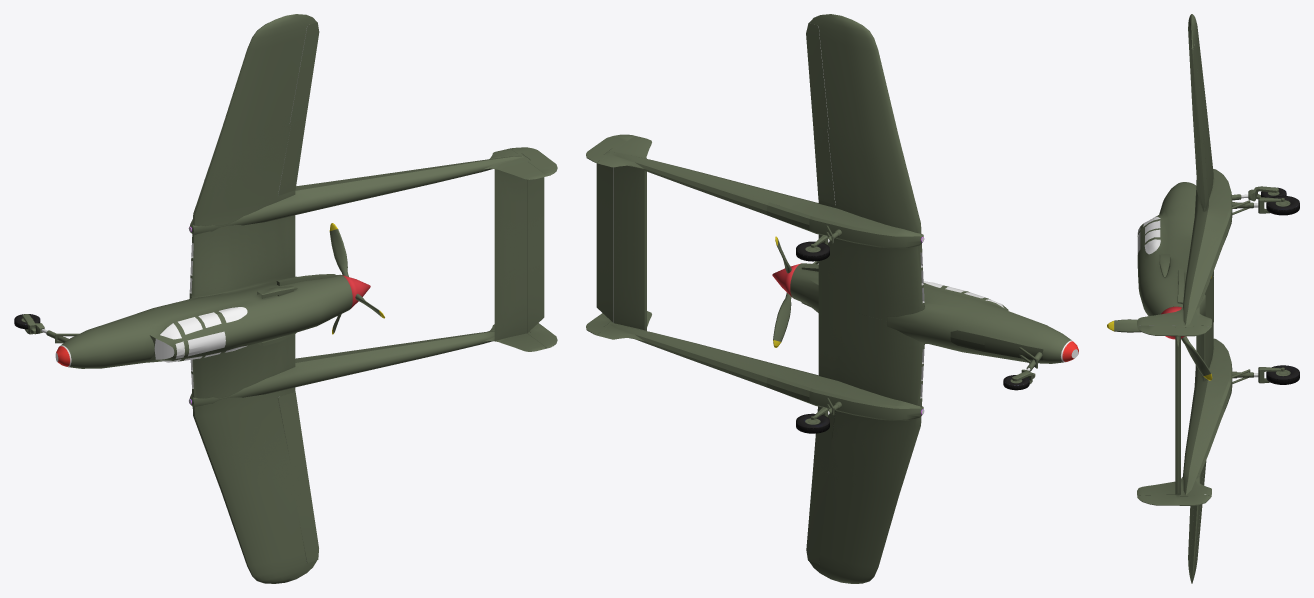
The picture shows the model from 3 angles, left to right: view 1: azimuth 30°, elevation 25°; view 2: azimuth 150°, elevation 25°; view 3: azimuth 270°, elevation 25°; orthographic projection.
Visible parts, largest first — view 1: Wing, Mainbody, Beams, Elevator, Aileron_L, Aileron_R, Flap_L, Flap_R, Propeller; view 2: Wing, Beams, Mainbody, Elevator, Aileron_R, Aileron_L, Flap_R, Flap_L, Propeller, FFWD; view 3: Beams, Mainbody, Wing, Elevator, Propeller, Rudder_R, Rudder_L, Aileron_R, LWheel, Flap_R, RWheel, Aileron_L (+1 smaller).
Boxes of the visible parts, x1,y1,x2,y2 form: Wing: (189, 14, 546, 583); Mainbody: (56, 274, 352, 368); Beams: (189, 155, 523, 406); Elevator: (527, 177, 544, 332); Aileron_L: (289, 461, 318, 563); Aileron_R: (289, 22, 319, 123); Flap_L: (277, 391, 305, 467); Flap_R: (278, 120, 305, 195); Propeller: (329, 223, 384, 334); Wing: (597, 14, 924, 583); Beams: (609, 151, 923, 420); Mainbody: (790, 263, 1078, 363); Elevator: (596, 163, 613, 322); Aileron_R: (806, 23, 829, 129); Aileron_L: (806, 467, 829, 563); Flap_R: (813, 126, 835, 205); Flap_L: (813, 406, 835, 473); Propeller: (773, 236, 818, 347); FFWD: (984, 336, 1043, 360); Beams: (1183, 169, 1232, 495); Mainbody: (1137, 182, 1205, 316); Wing: (1137, 14, 1213, 583); Elevator: (1175, 336, 1180, 494); Propeller: (1107, 276, 1212, 380); Rudder_R: (1137, 325, 1211, 336); Rudder_L: (1137, 494, 1211, 505); Aileron_R: (1191, 44, 1203, 142); LWheel: (1266, 365, 1299, 384); Flap_R: (1196, 134, 1208, 207); RWheel: (1266, 195, 1299, 215); Aileron_L: (1190, 472, 1203, 579).
Bounding box in the file's own units: 10.11 × 11.28 × 3.53.
7 materials, 7 textured.
